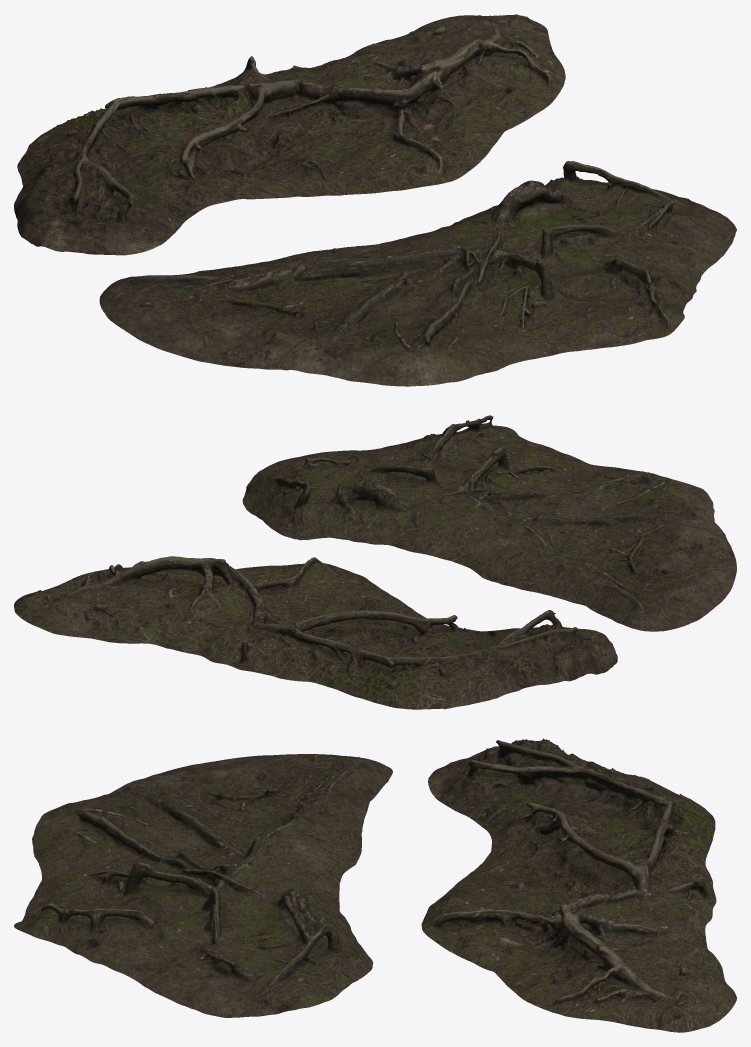
Rendered from pine_roots.glb.
3 views of the same model, one above another, from view 1: azimuth 30°, elevation 25°; view 2: azimuth 150°, elevation 25°; view 3: azimuth 270°, elevation 25° (orthographic). The views are drawn at different scales.
Parts seen in each view (by area): view 1: pine_roots_b, pine_roots_a; view 2: pine_roots_b, pine_roots_a; view 3: pine_roots_b, pine_roots_a.
Boxes of the visible parts, <box> form: pine_roots_b: <box>99,161,736,386</box>; pine_roots_a: <box>14,14,565,255</box>; pine_roots_b: <box>242,415,736,631</box>; pine_roots_a: <box>14,556,617,709</box>; pine_roots_b: <box>14,754,392,1017</box>; pine_roots_a: <box>421,738,736,1032</box>.
Size of the model in its own units: 1.77 by 0.1548 by 1.89.
Materials: 2 (2 with a texture image).
